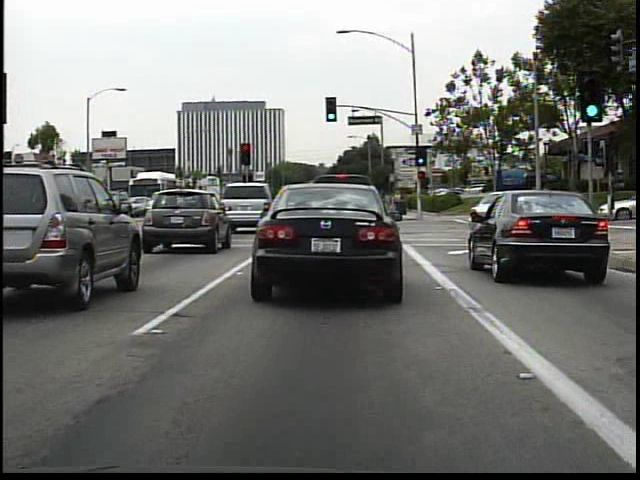person: (389, 184, 408, 217)
